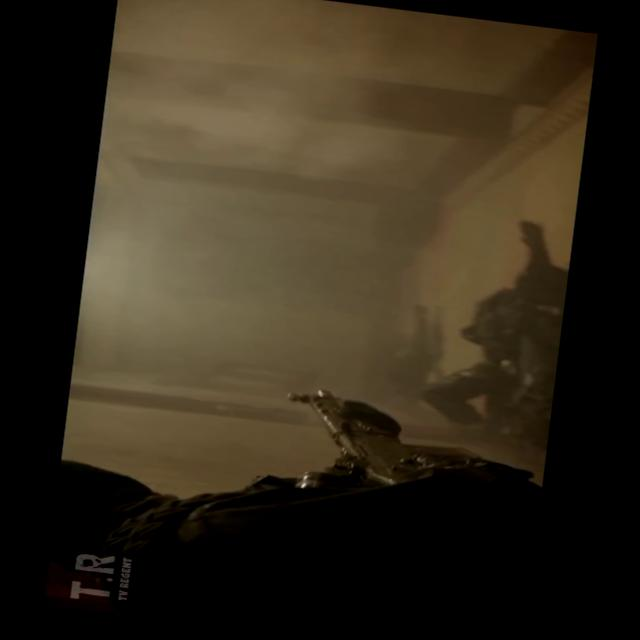long weapon: (286, 368, 494, 512)
